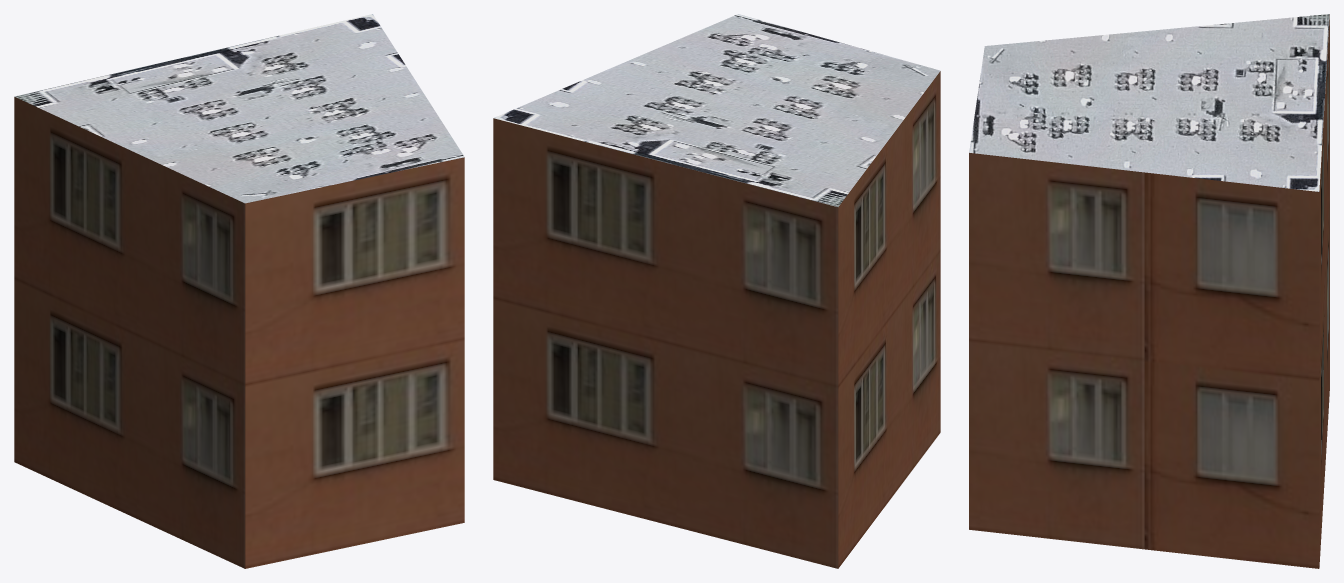
Rendered from ResTex__2662.fbx.
3 renders of one model, left to right at view 1: azimuth 30°, elevation 25°; view 2: azimuth 150°, elevation 25°; view 3: azimuth 270°, elevation 25°, orthographic. The views are drawn at different scales.
Parts seen in each view (by area): view 1: CityEngineMaterial_20_m, CityEngineMaterial_8_m; view 2: CityEngineMaterial_20_m, CityEngineMaterial_8_m; view 3: CityEngineMaterial_20_m, CityEngineMaterial_8_m.
Boxes of the visible parts, left/top/right/bottom form: CityEngineMaterial_20_m: left=14, top=97, right=464, bottom=568; CityEngineMaterial_8_m: left=14, top=14, right=464, bottom=203; CityEngineMaterial_20_m: left=493, top=71, right=940, bottom=568; CityEngineMaterial_8_m: left=493, top=14, right=940, bottom=206; CityEngineMaterial_20_m: left=969, top=14, right=1329, bottom=568; CityEngineMaterial_8_m: left=969, top=14, right=1329, bottom=191.
Size of the model in its own units: 6.08 by 6 by 5.2.
Materials: 2 (2 with a texture image).
